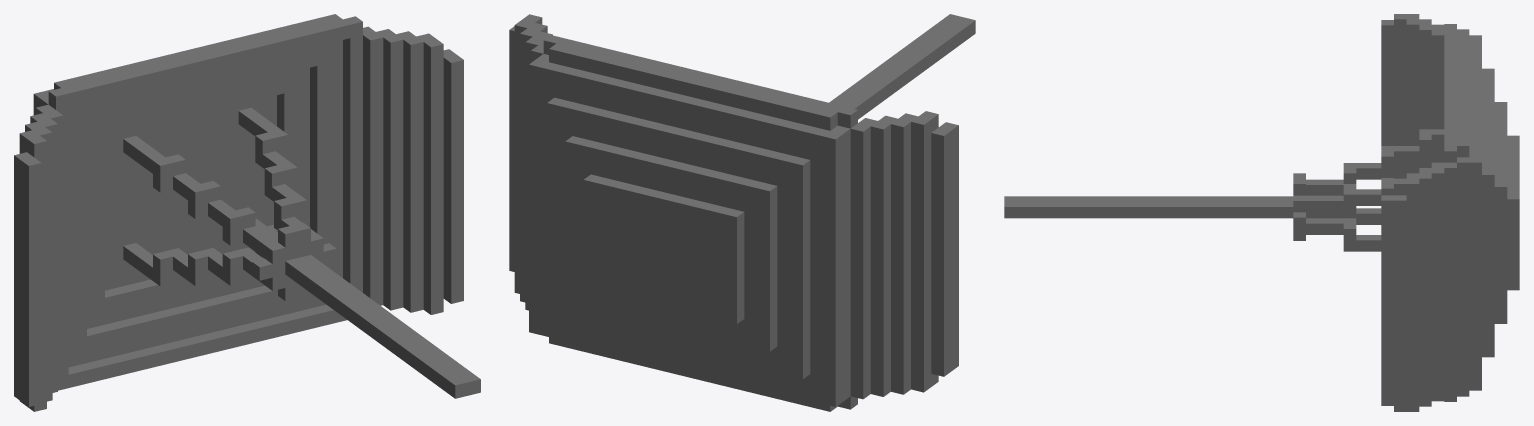
The model's file is AdvancedComCenterAntenna.obj.
3 renders of one model, left to right at view 1: azimuth 30°, elevation 25°; view 2: azimuth 150°, elevation 25°; view 3: azimuth 270°, elevation 25°, orthographic. The views are drawn at different scales.
Size of the model in its own units: 3.4 by 2.2 by 4.1.
Materials: 1 (1 with a texture image).
